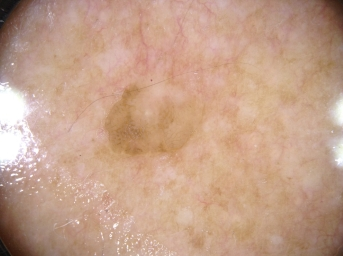seborrheic keratosis: (97, 80, 220, 168)
